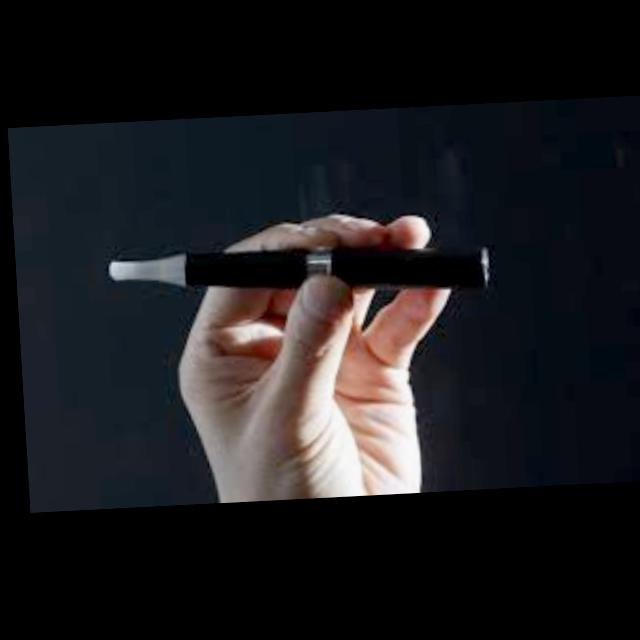vape: (106, 240, 489, 311)
